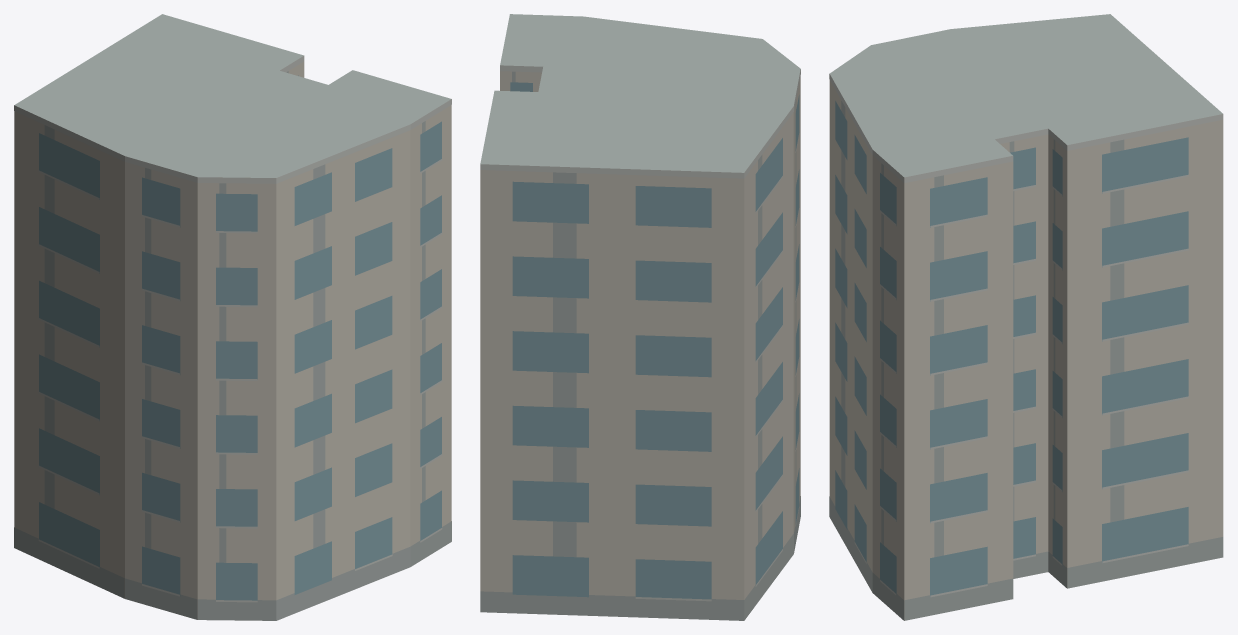
The model's file is survey-upis-33021941.glb.
3 views of the same model, side by side, from view 1: azimuth 30°, elevation 25°; view 2: azimuth 150°, elevation 25°; view 3: azimuth 270°, elevation 25° (orthographic).
Parts seen in each view (by area): view 1: survey-upis-33021941.tmp; view 2: survey-upis-33021941.tmp; view 3: survey-upis-33021941.tmp.
Part boxes in pixels (x1,y1,x2,y2): survey-upis-33021941.tmp: (14, 14, 451, 620); survey-upis-33021941.tmp: (480, 14, 800, 620); survey-upis-33021941.tmp: (829, 14, 1223, 620).
Size of the model in its own units: 14.88 by 18.8 by 15.14.
